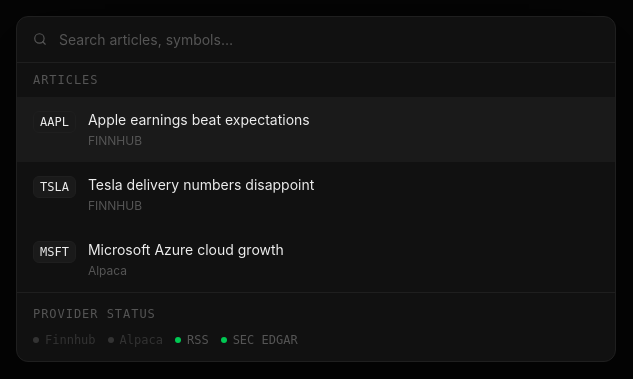
Test: CommandPalette › rendering › shows "No results" message when query has text and no matches
Type "zzznomatch" into the field with test id "command-palette-input" at point(329, 39), box [59,28,599,50]
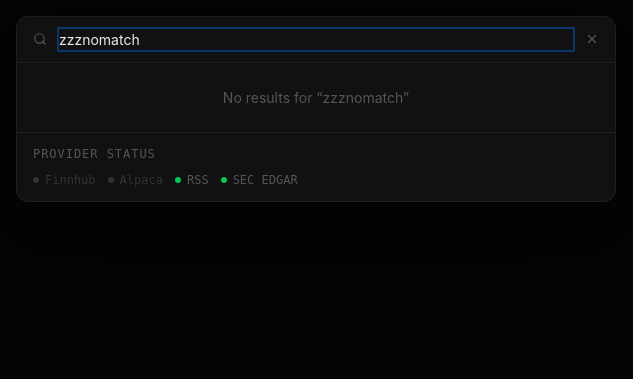
expect the text "No results for “zzznomatch”" is shown: met, box [223,88,409,106]
